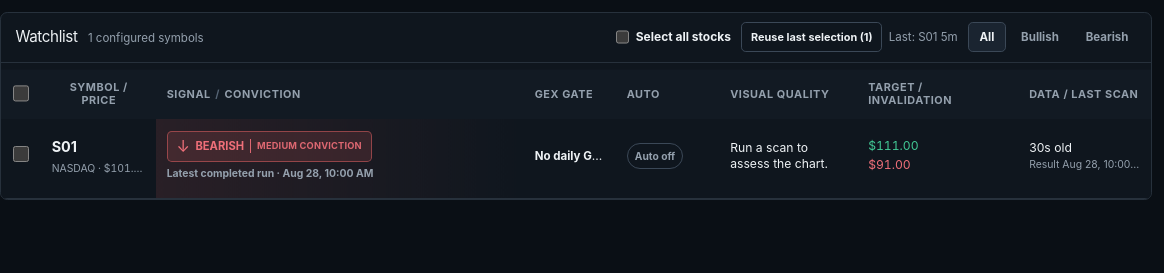
Test: WatchlistTable › ignores stocks removed from the watchlist when reusing a saved batch
Expected: the text "Last: S01 5m" is shown, [889, 29, 958, 46]
Click the button "Reuse last selection (1)". click: point(812, 37)
box: [741, 22, 882, 52]
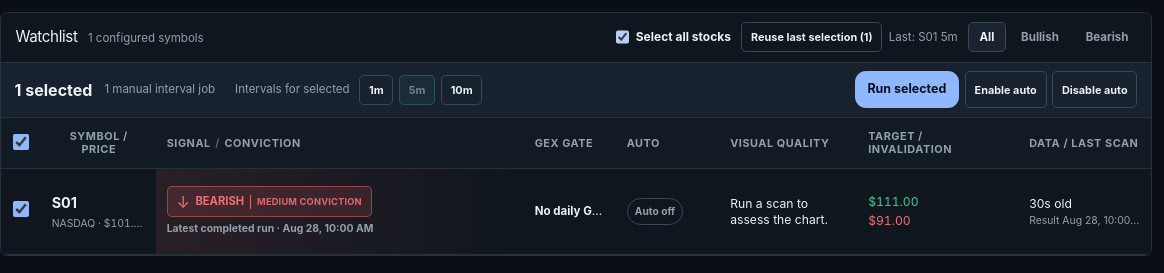
Now the checkbox named "Select S01" is checked, box [13, 185, 29, 233]
